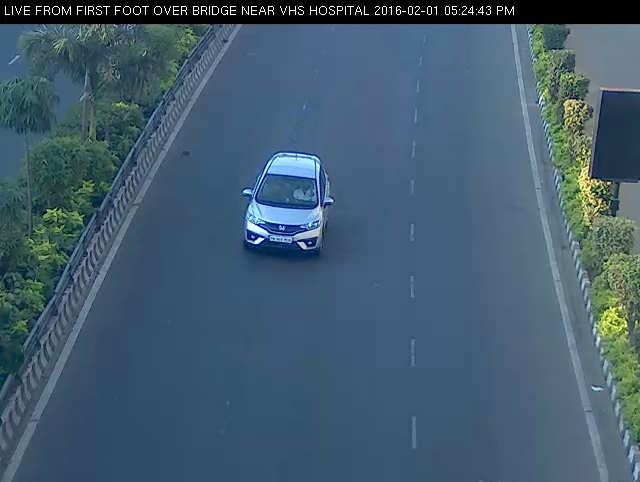Car: (230, 142, 340, 269)
